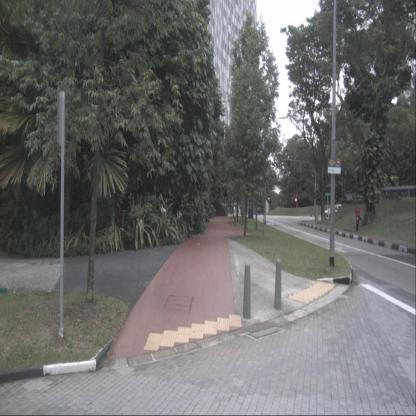human-pedestrian-adult: (354, 202, 362, 233)
vehicle-car: (324, 206, 342, 218)
